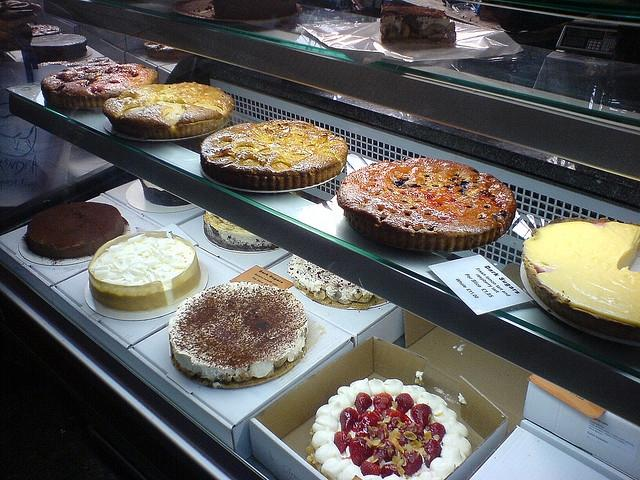strawberry: (349, 437, 374, 467), (422, 439, 442, 468), (373, 441, 396, 466), (410, 404, 432, 428), (402, 450, 422, 476), (339, 407, 358, 433), (386, 409, 406, 432), (358, 410, 382, 428), (334, 430, 352, 454), (372, 392, 393, 412), (426, 422, 446, 443), (354, 392, 372, 414), (396, 393, 414, 413), (361, 460, 382, 477), (381, 464, 401, 478), (404, 422, 424, 436), (396, 430, 408, 447)
